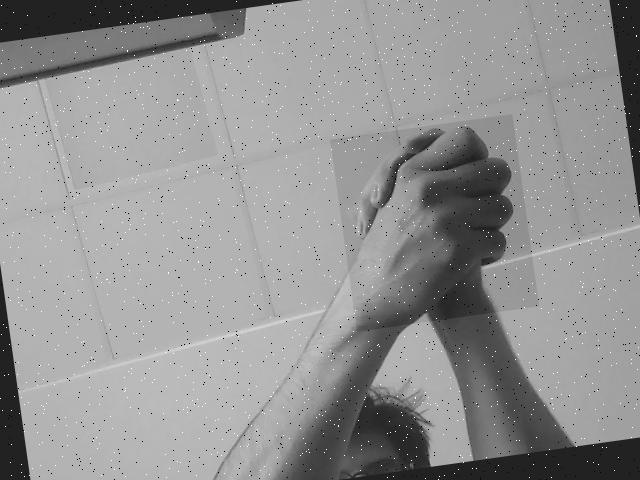friend: (330, 114, 540, 332)
